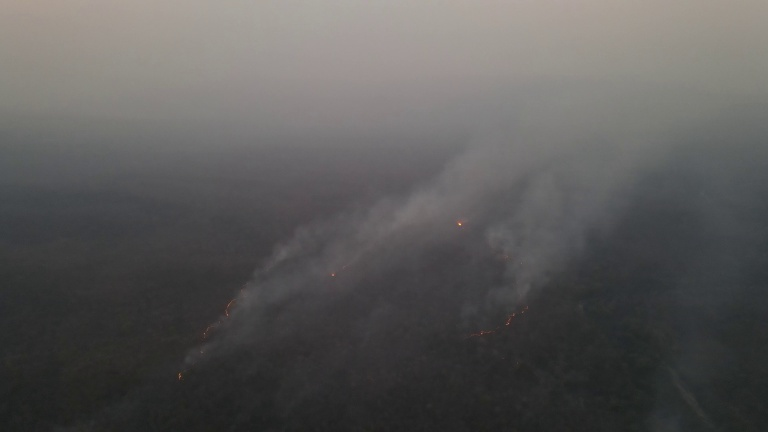fire: (198, 283, 248, 355), (462, 303, 532, 338), (323, 271, 338, 285), (453, 220, 468, 231), (173, 370, 184, 383)
smoke: (186, 110, 623, 367)
